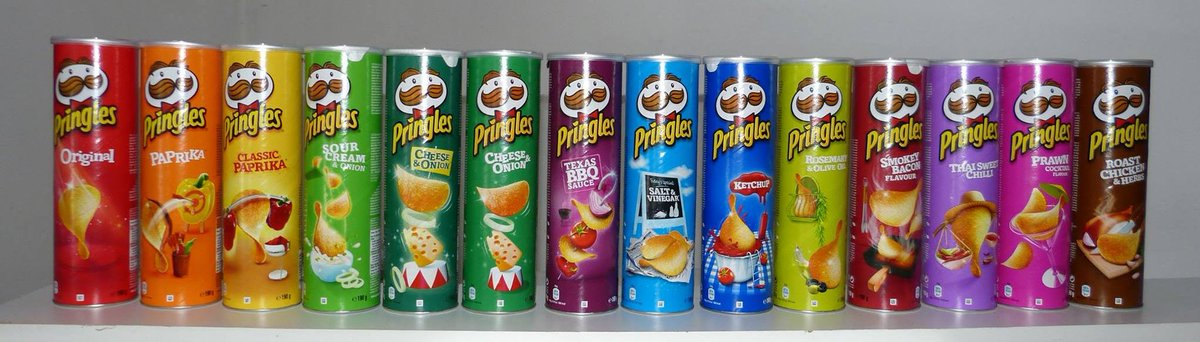pringle: (44, 34, 138, 311)
